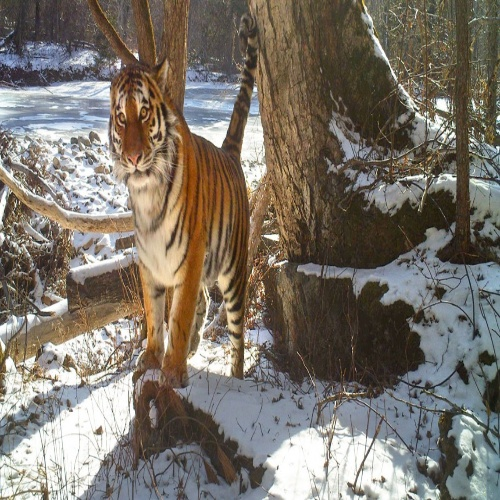tiger: (74, 51, 300, 410)
